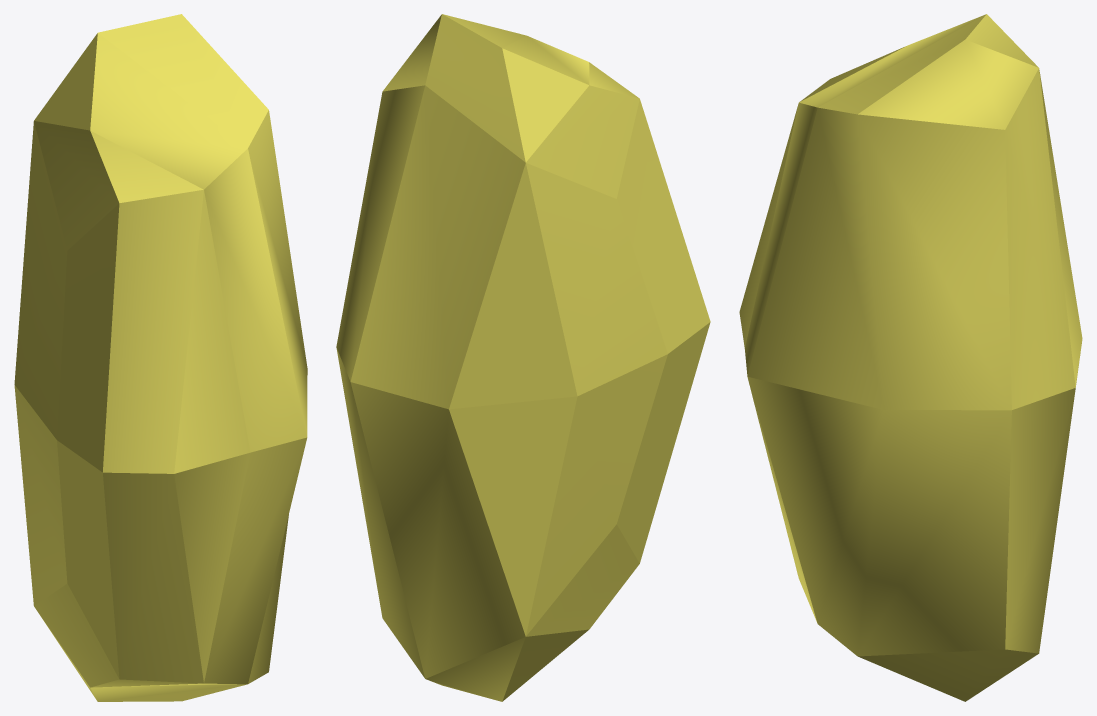
File: Mineral_Drop_01.fbx
3 renders of one model, left to right at view 1: azimuth 30°, elevation 25°; view 2: azimuth 150°, elevation 25°; view 3: azimuth 270°, elevation 25°, orthographic. The views are drawn at different scales.
Visible parts, largest first — view 1: Environment_Cliff3.001; view 2: Environment_Cliff3.001; view 3: Environment_Cliff3.001.
Part boxes in pixels (left/top/right/bottom): Environment_Cliff3.001: left=14, top=14, right=307, bottom=701; Environment_Cliff3.001: left=336, top=14, right=710, bottom=701; Environment_Cliff3.001: left=739, top=14, right=1082, bottom=701.
Size of the model in its own units: 63.99 by 160 by 75.29.
